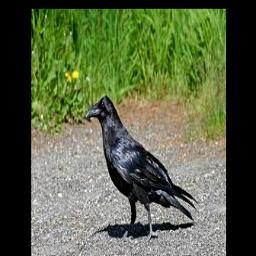Crow: (85, 94, 200, 245)
